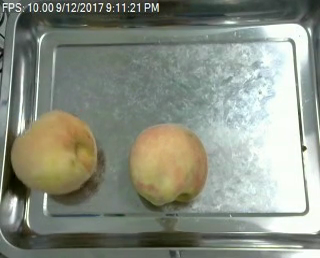Peach: (10, 108, 98, 195), (128, 122, 208, 206)
